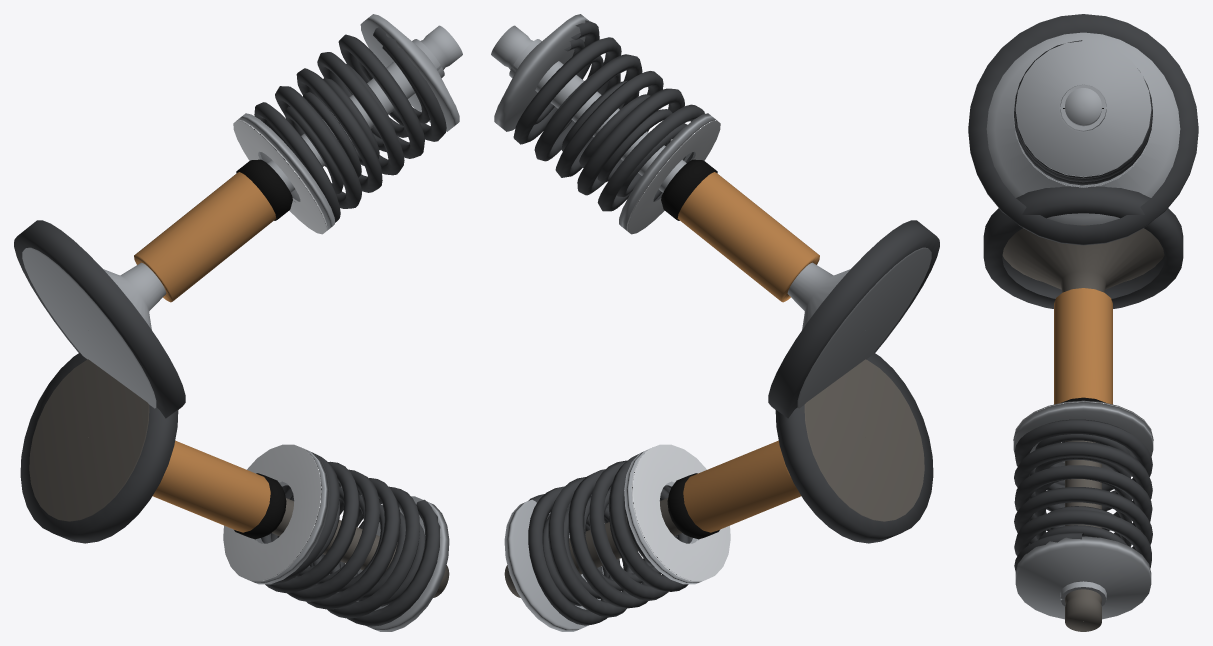
The model's file is valve-set.glb.
3 views of the same model, side by side, from view 1: azimuth 30°, elevation 25°; view 2: azimuth 150°, elevation 25°; view 3: azimuth 270°, elevation 25° (orthographic). The views are drawn at different scales.
Parts seen in each view (by area): view 1: valve-set:darkSteel, valve-set:steel, valve-set:heatSteel, valve-set:bronze, valve-set:polishedSteel, valve-set:rubber; view 2: valve-set:darkSteel, valve-set:steel, valve-set:heatSteel, valve-set:bronze, valve-set:polishedSteel, valve-set:rubber; view 3: valve-set:darkSteel, valve-set:steel, valve-set:heatSteel, valve-set:bronze, valve-set:polishedSteel.
Part boxes in pixels (bbox=[...]): valve-set:darkSteel: bbox=[14, 27, 446, 626]; valve-set:steel: bbox=[22, 14, 462, 631]; valve-set:heatSteel: bbox=[29, 359, 449, 597]; valve-set:bronze: bbox=[134, 172, 276, 532]; valve-set:polishedSteel: bbox=[223, 119, 327, 581]; valve-set:rubber: bbox=[234, 159, 292, 539]; valve-set:darkSteel: bbox=[513, 20, 939, 625]; valve-set:steel: bbox=[491, 14, 931, 631]; valve-set:heatSteel: bbox=[504, 359, 924, 597]; valve-set:bronze: bbox=[677, 172, 819, 532]; valve-set:polishedSteel: bbox=[626, 119, 730, 581]; valve-set:rubber: bbox=[661, 159, 719, 539]; valve-set:darkSteel: bbox=[968, 14, 1198, 571]; valve-set:steel: bbox=[986, 32, 1180, 619]; valve-set:heatSteel: bbox=[1002, 225, 1164, 631]; valve-set:bronze: bbox=[1054, 288, 1112, 404]; valve-set:polishedSteel: bbox=[1013, 153, 1153, 462].
Size of the model in its own units: 114 by 157 by 56.
